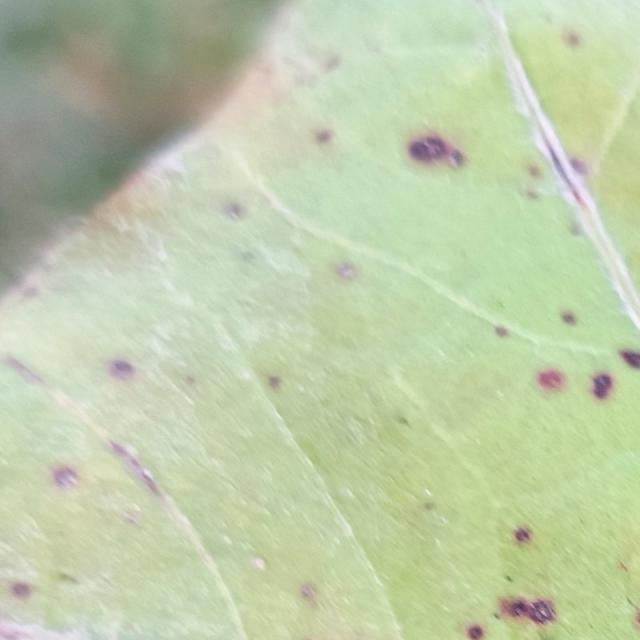Bacterial_Blight: (14, 333, 220, 494), (452, 492, 620, 632), (387, 109, 596, 220), (481, 311, 632, 410), (2, 549, 129, 635), (284, 576, 393, 640), (89, 344, 158, 395), (406, 132, 466, 169), (295, 44, 341, 79), (3, 354, 44, 385), (5, 578, 41, 612), (303, 117, 335, 152), (52, 465, 80, 489), (410, 139, 437, 160), (333, 260, 358, 281), (223, 201, 244, 220), (498, 597, 518, 616), (510, 599, 530, 618), (512, 526, 533, 544), (299, 582, 318, 601), (563, 30, 582, 48), (22, 283, 41, 300), (166, 169, 186, 185), (239, 248, 258, 264), (466, 623, 484, 639), (560, 311, 577, 325), (267, 374, 282, 389), (493, 324, 510, 337), (423, 501, 436, 512), (468, 632, 484, 640)
Cotton: (0, 0, 639, 639)
